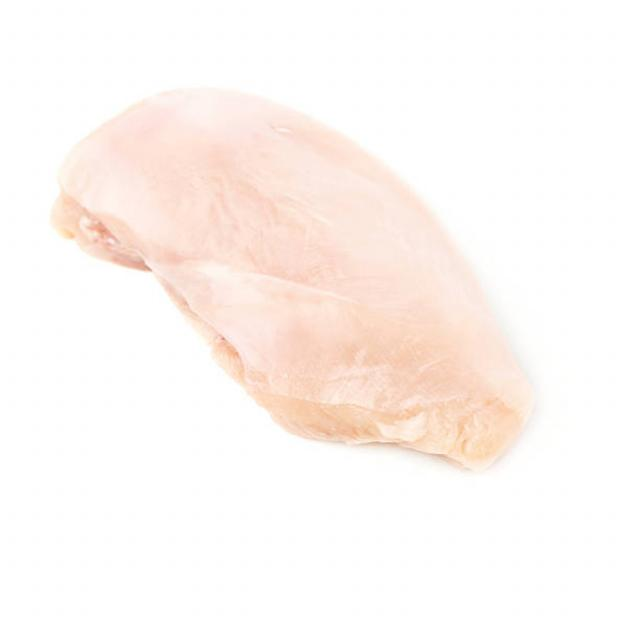chicken thigh: (31, 31, 598, 503)
